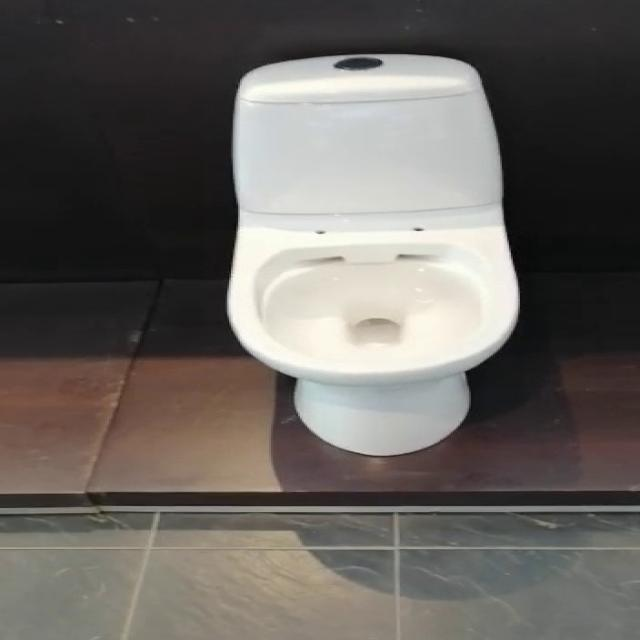toilet: (224, 48, 530, 458)
